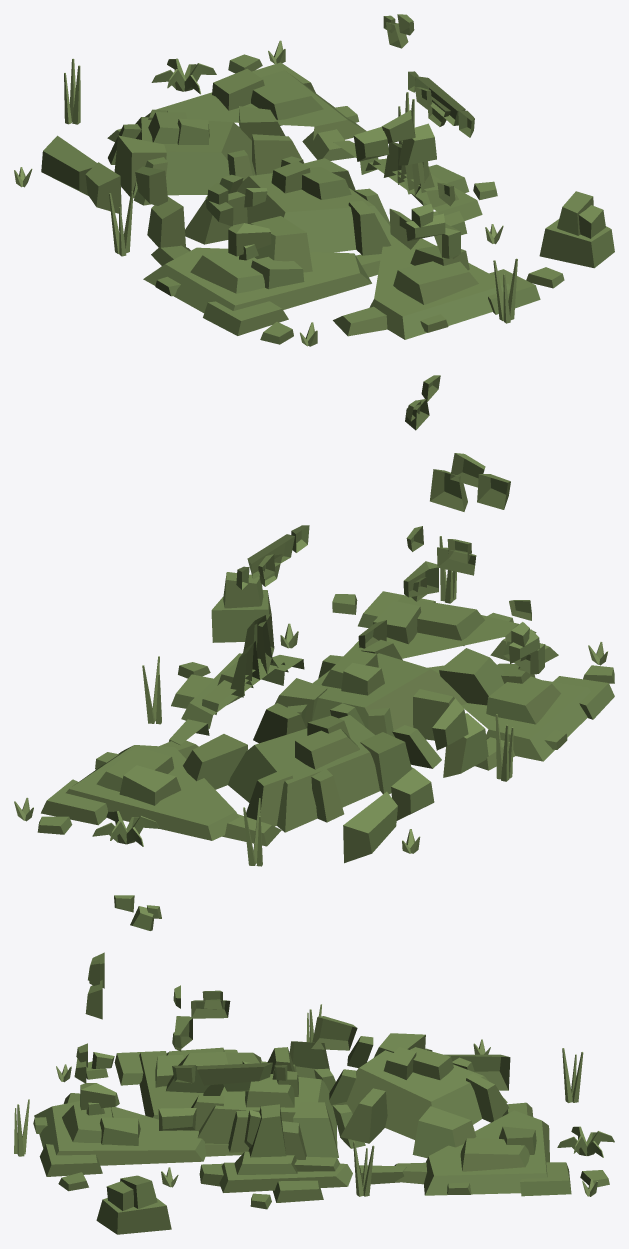
Rendered from SA_Bld_Church_Growth_01.gltf.
3 renders of one model, top to bottom at view 1: azimuth 30°, elevation 25°; view 2: azimuth 150°, elevation 25°; view 3: azimuth 270°, elevation 25°, orthographic. The views are drawn at different scales.
Visible parts, largest first — view 1: SA_Bld_Church_Growth_01; view 2: SA_Bld_Church_Growth_01; view 3: SA_Bld_Church_Growth_01.
Boxes of the visible parts, <box> form: SA_Bld_Church_Growth_01: <box>14,14,614,346</box>; SA_Bld_Church_Growth_01: <box>14,375,614,866</box>; SA_Bld_Church_Growth_01: <box>14,895,614,1234</box>.
Bounding box in the file's own units: 16.63 × 11.43 × 24.7.
Materials: 1 (1 with a texture image).
